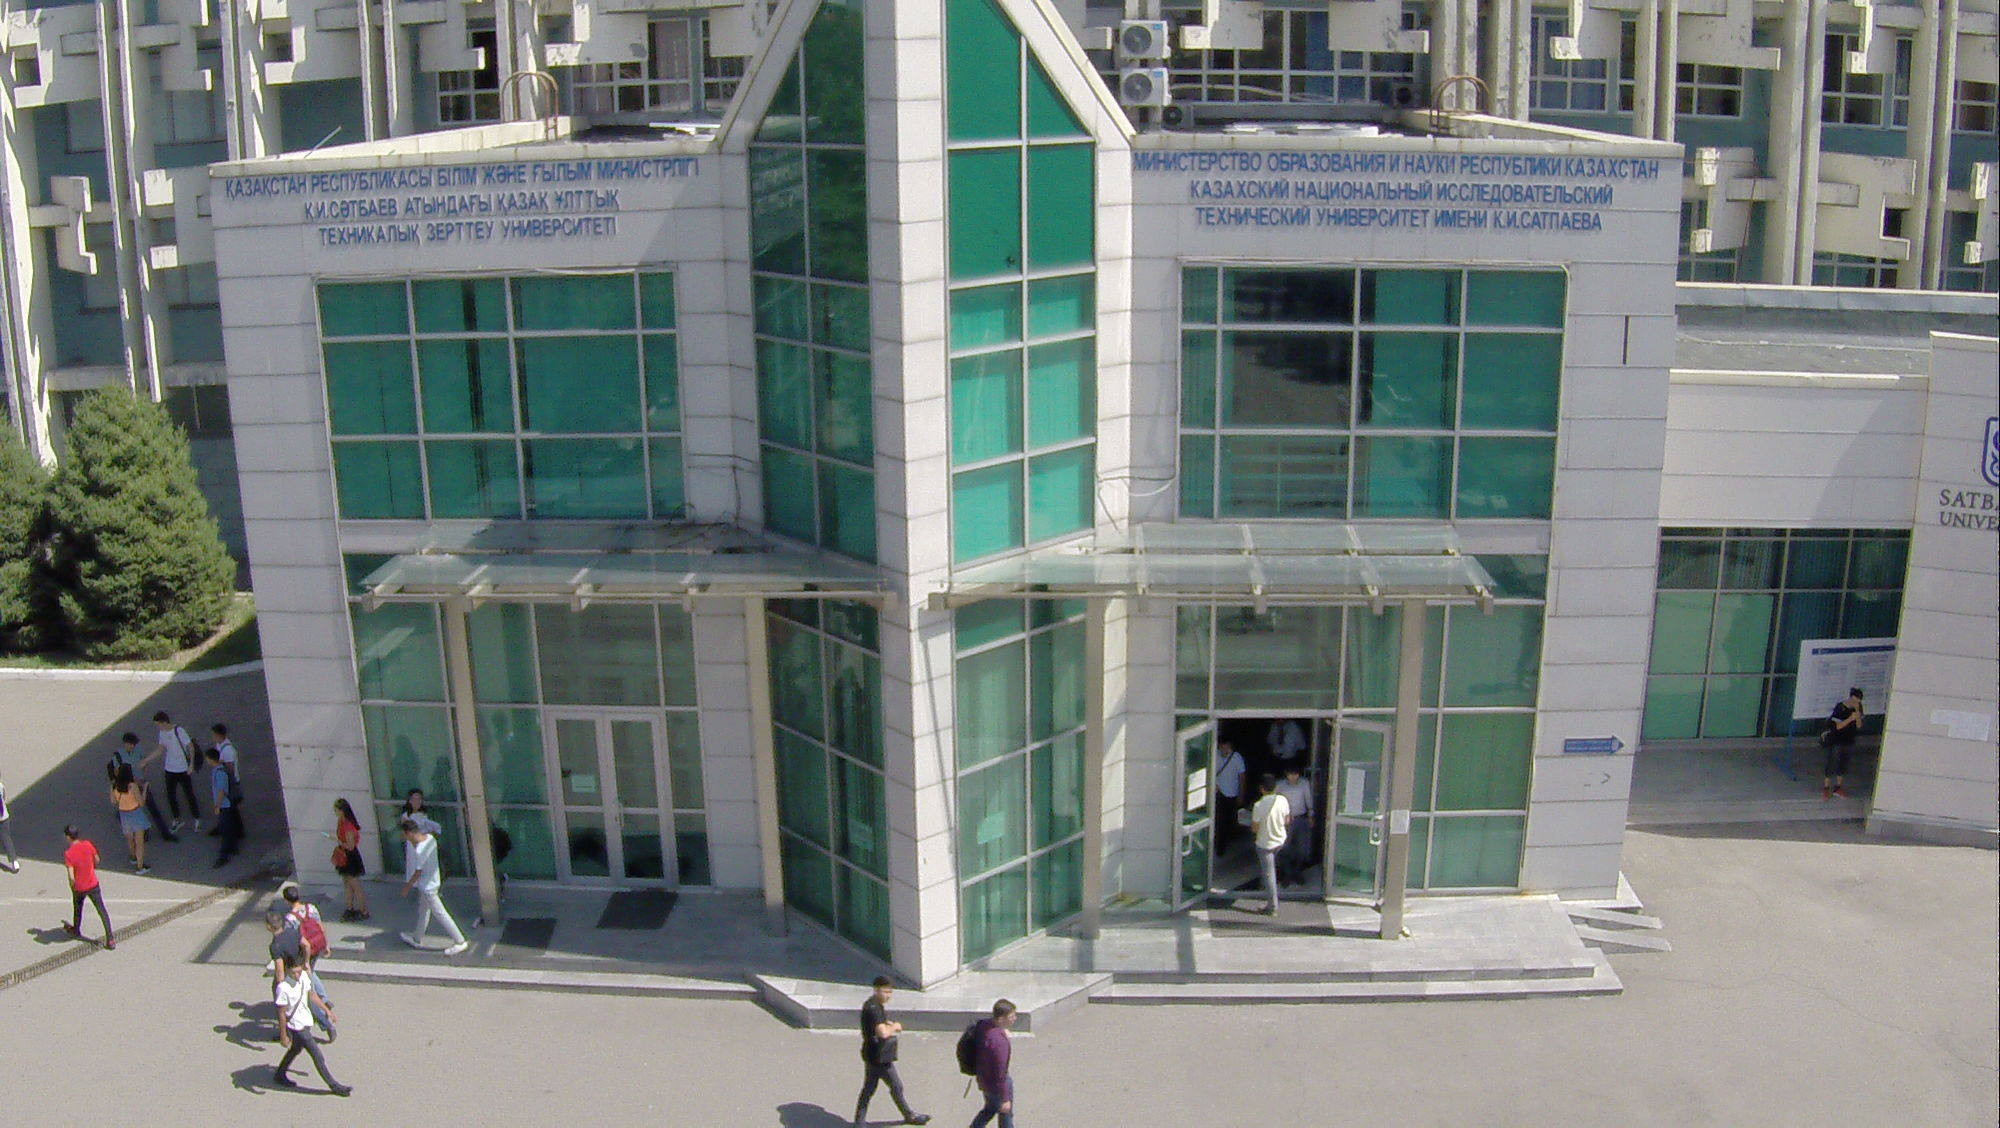person: (265, 960, 352, 1101), (856, 971, 918, 1128), (401, 819, 467, 958), (958, 991, 1021, 1128), (48, 824, 117, 951), (1812, 685, 1869, 807), (1245, 771, 1289, 920), (329, 796, 373, 922), (105, 758, 152, 874), (153, 729, 204, 835), (1277, 764, 1315, 892), (203, 749, 236, 869), (1212, 734, 1243, 858), (283, 879, 333, 958), (257, 911, 314, 967), (403, 786, 428, 827)
